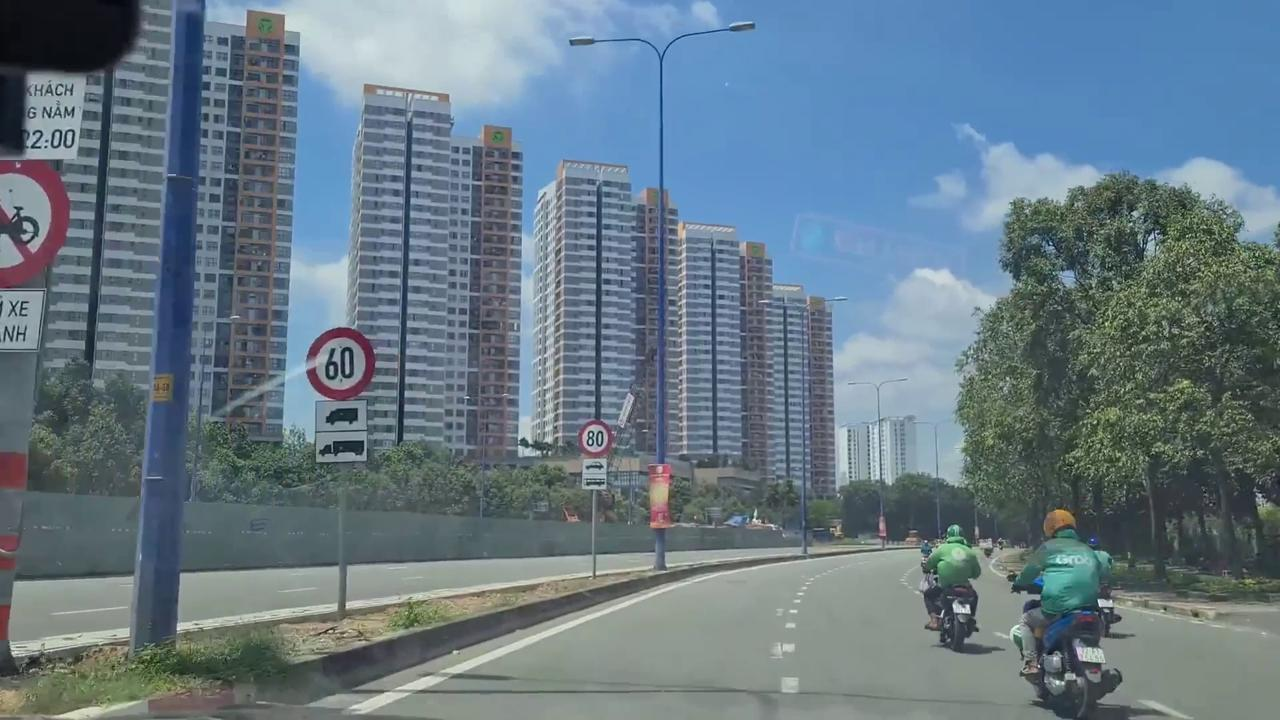Biển phụ: (312, 398, 368, 461), (581, 456, 608, 490)
GIơi hạn tốc độ 60Km/h: (306, 324, 378, 402)
Giới hạn tốc độ 80Km/h: (578, 418, 614, 459)
